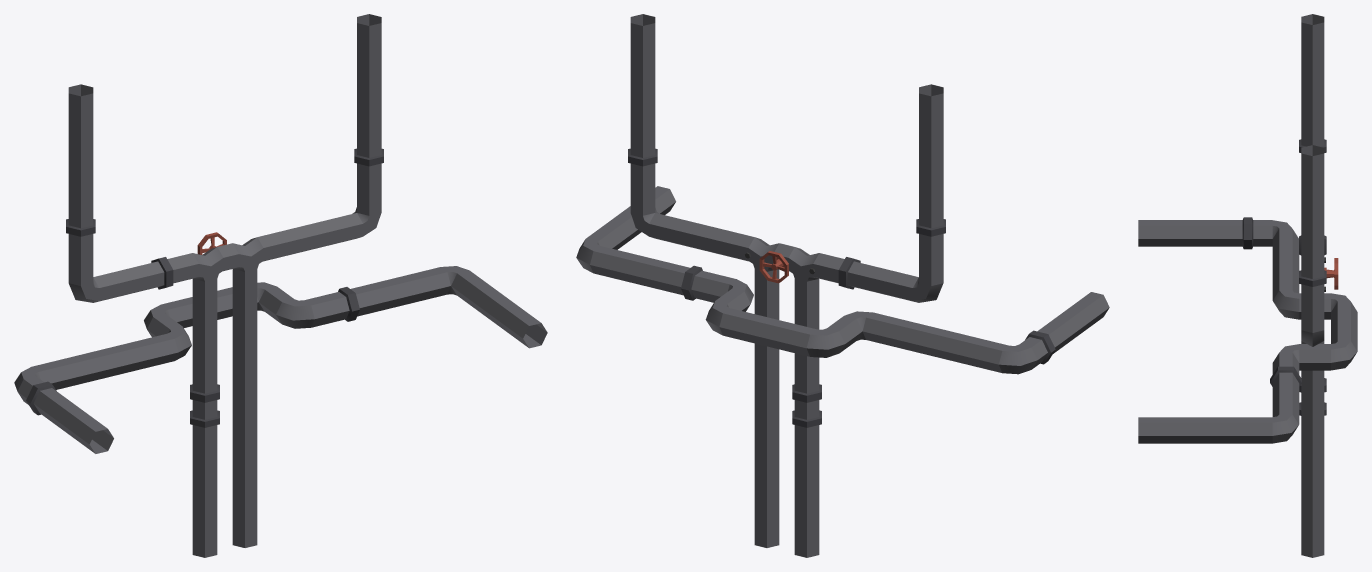
Rendered from SM_Prop_Detail_Pipes_01.fbx.
The picture shows the model from 3 angles, left to right: view 1: azimuth 30°, elevation 25°; view 2: azimuth 150°, elevation 25°; view 3: azimuth 270°, elevation 25°; orthographic projection. The views are drawn at different scales.
Visible parts, largest first — view 1: SM_Prop_Detail_Pipes_01_LOD0; view 2: SM_Prop_Detail_Pipes_01_LOD0; view 3: SM_Prop_Detail_Pipes_01_LOD0.
Part boxes in pixels (x1,y1,x2,y2): SM_Prop_Detail_Pipes_01_LOD0: (14,14,547,557); SM_Prop_Detail_Pipes_01_LOD0: (576,14,1109,557); SM_Prop_Detail_Pipes_01_LOD0: (1138,14,1357,557).
Bounding box in the file's own units: 164 × 371 × 379.
Materials: 1 (1 with a texture image).
